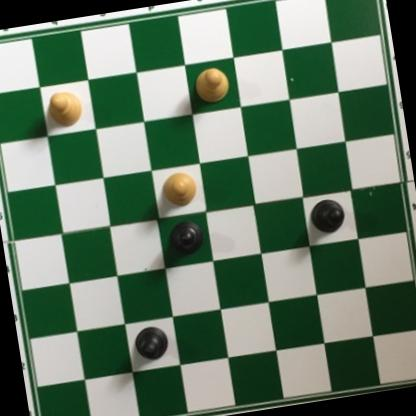black-pawn: (307, 195, 349, 239), (165, 218, 207, 259), (132, 323, 172, 366)
white-pawn: (158, 169, 199, 210), (44, 89, 84, 129), (192, 65, 232, 104)
